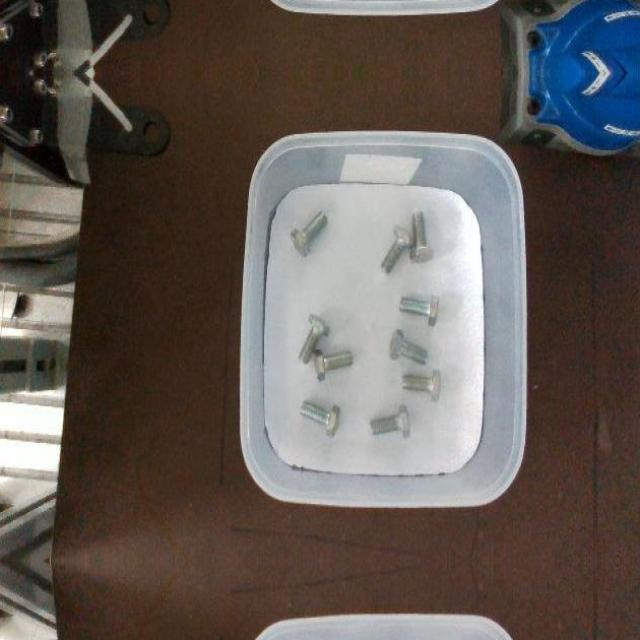screw: (380, 223, 414, 275), (291, 211, 328, 256), (299, 313, 330, 364), (301, 400, 340, 438), (369, 402, 409, 438), (388, 329, 429, 364), (313, 348, 352, 382), (408, 211, 433, 263), (401, 369, 440, 400), (399, 296, 439, 326)
